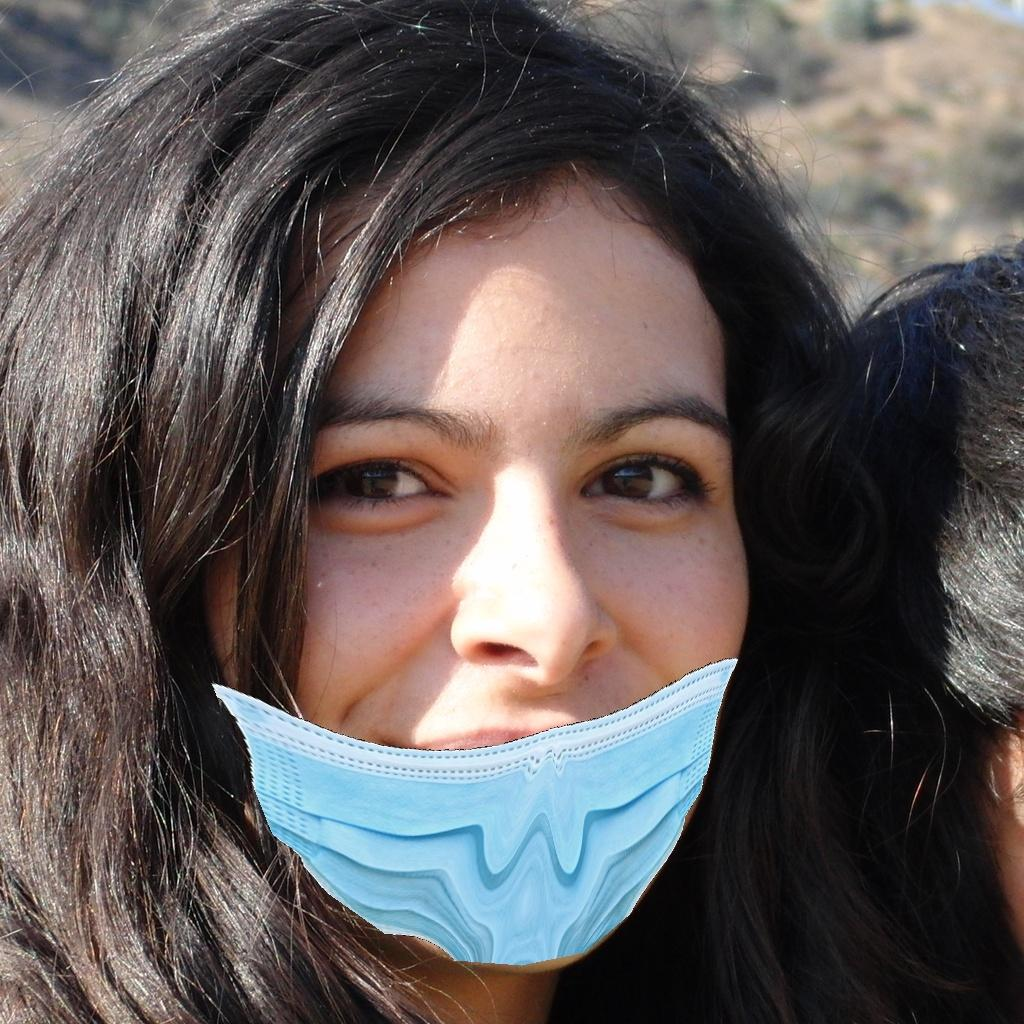Máscara Incorreta: (215, 327, 763, 957)
